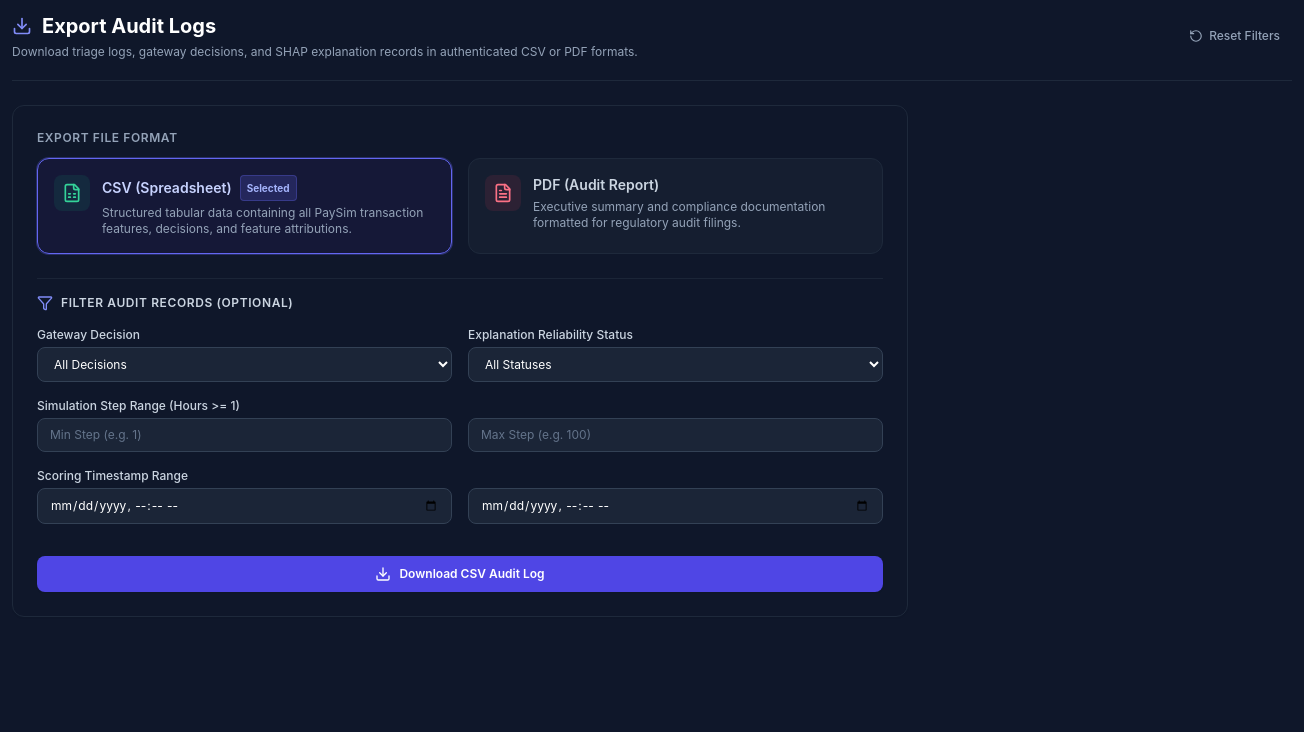
Test: ExportView Page › resets filters and clears messages on Reset Filters click
The width and height of the screenshot is (1304, 732).
Type "50" into the number field named "minimum step filter".
click(244, 435); type("50")  # box [37,418,452,452]
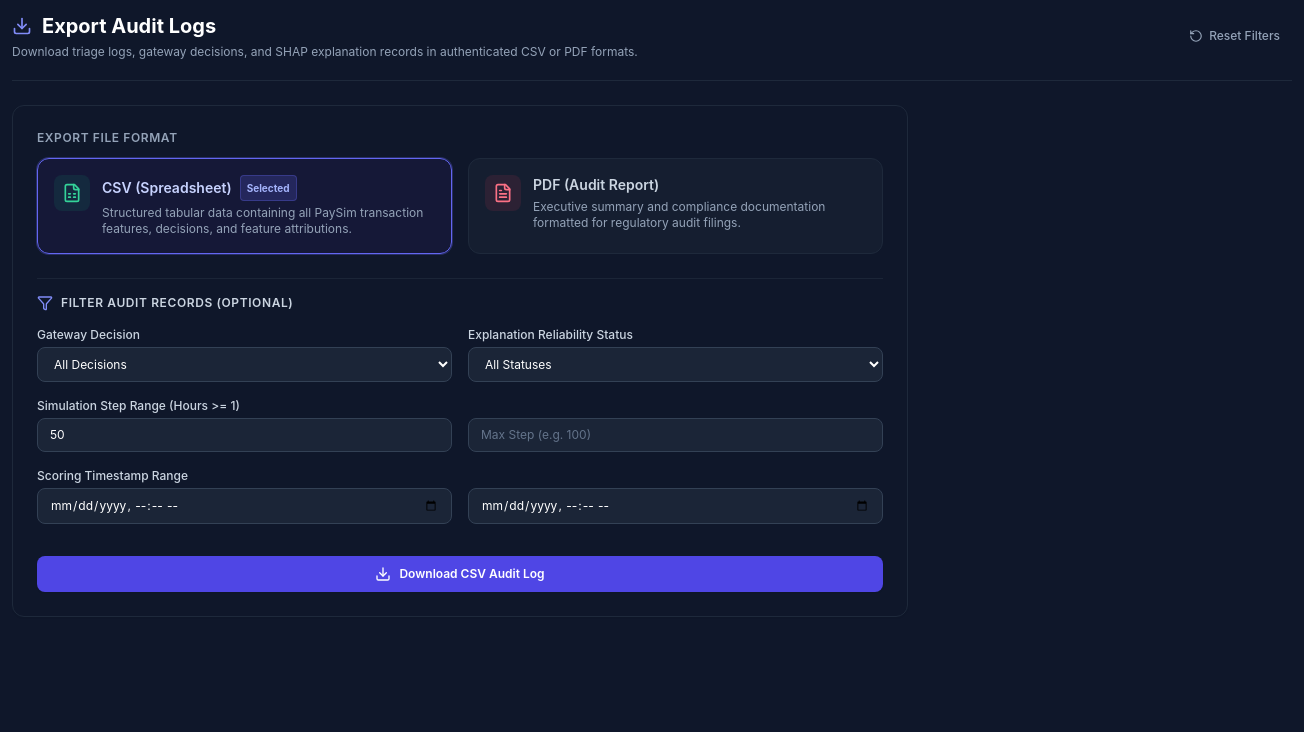
Click the button "Reset Filters".
click(1235, 36)  # box [1177,22,1292,50]
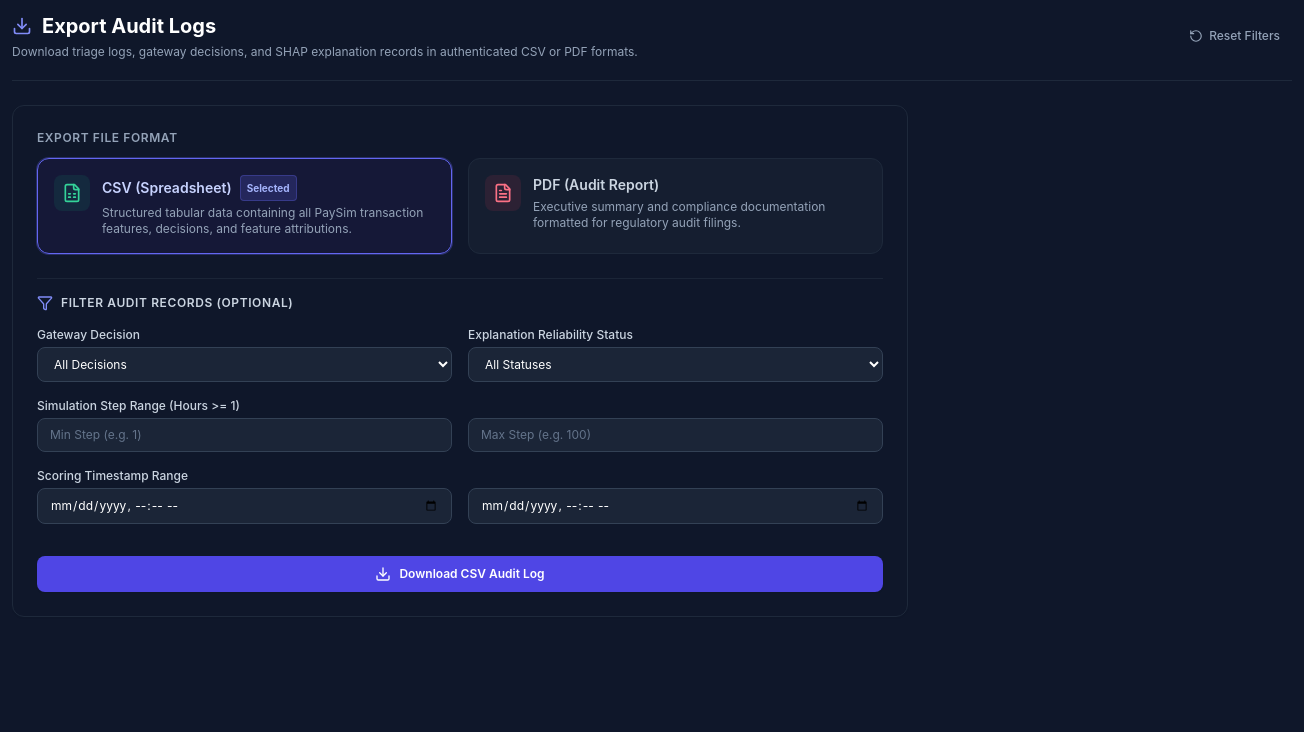
Expected: the number field named "minimum step filter" is not empty, [37,418,452,452]
